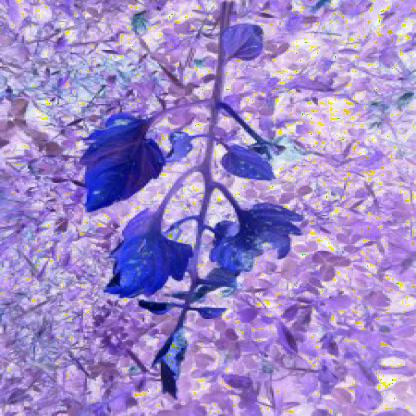potato leaf early blight: (102, 211, 203, 305), (78, 112, 170, 207), (209, 201, 305, 270), (152, 330, 198, 405), (246, 128, 316, 168)
